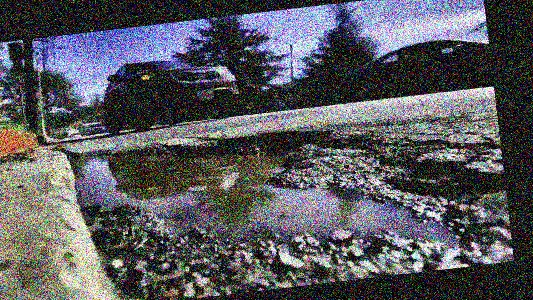pothole: (60, 100, 511, 300)
